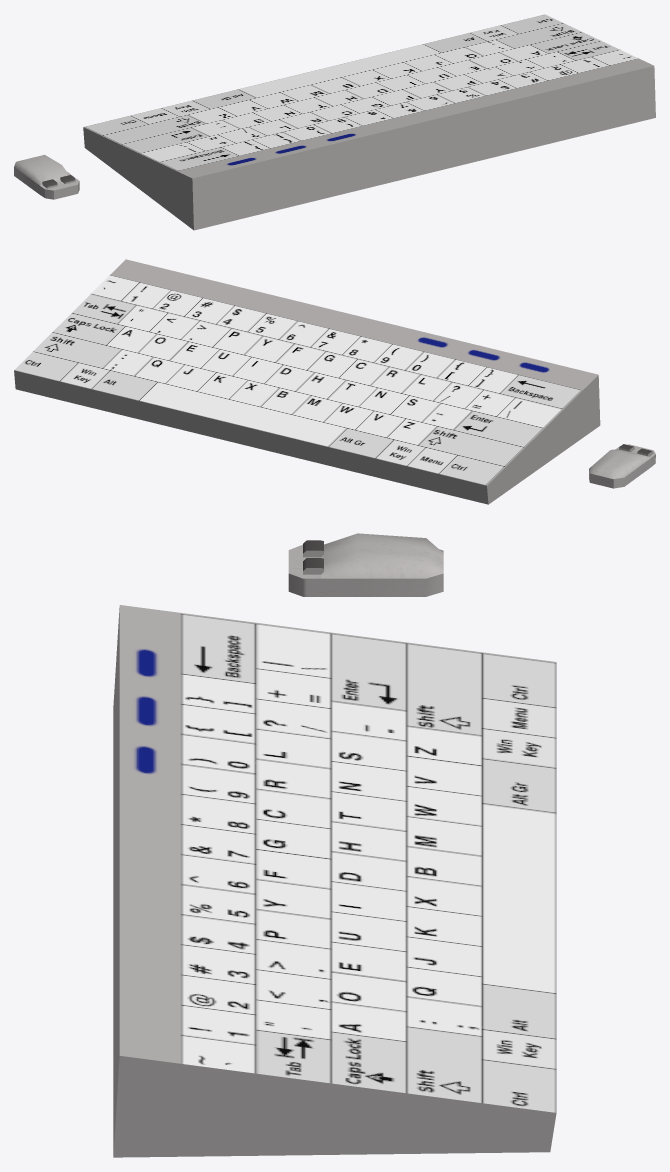
File: KeyboardAndMouse.fbx
3 renders of one model, top to bottom at view 1: azimuth 30°, elevation 25°; view 2: azimuth 150°, elevation 25°; view 3: azimuth 270°, elevation 25°, orthographic. The views are drawn at different scales.
Visible parts, largest first — view 1: pCube13, pCube14; view 2: pCube13, pCube14; view 3: pCube13, pCube14.
Boxes of the visible parts, box(x1,y1,x2,y2) form: pCube13: box(83, 14, 655, 230); pCube14: box(14, 154, 79, 199); pCube13: box(14, 259, 600, 504); pCube14: box(589, 444, 655, 488); pCube13: box(113, 605, 556, 1157); pCube14: box(288, 533, 443, 596).
Size of the model in its own units: 5.82 by 0.5019 by 1.98.
